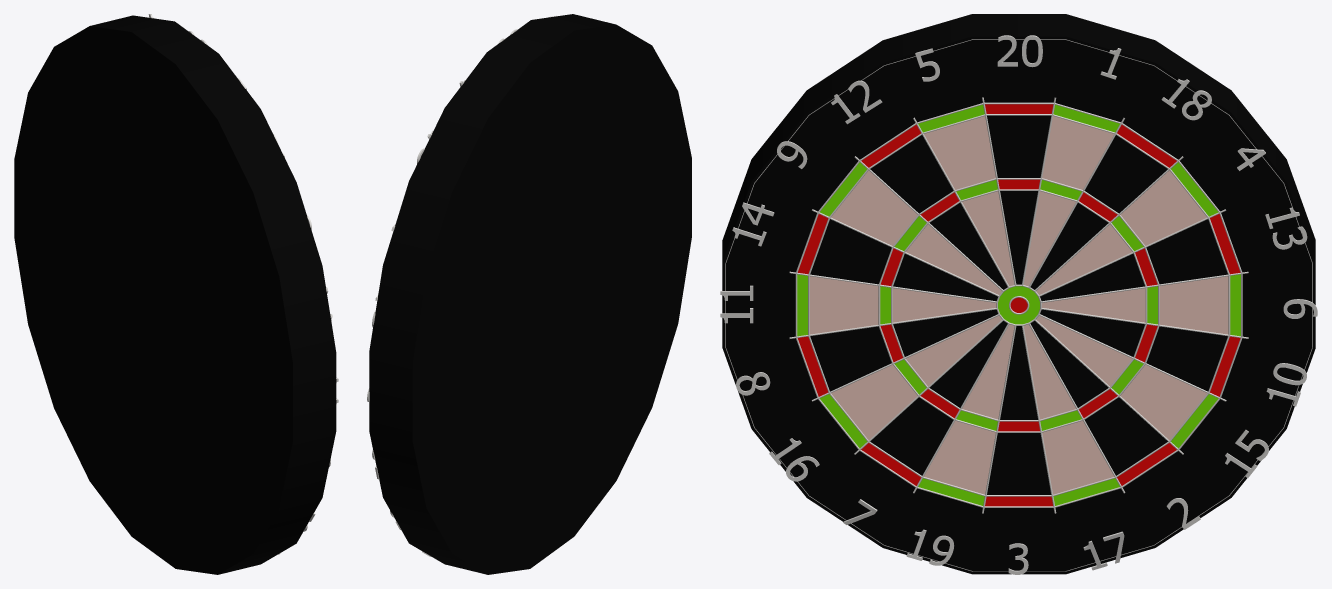
File: dartboard.dae
3 renders of one model, left to right at view 1: azimuth 30°, elevation 25°; view 2: azimuth 150°, elevation 25°; view 3: azimuth 270°, elevation 25°, orthographic. The views are drawn at different scales.
Visible parts, largest first — view 1: dartboard_main; view 2: dartboard_main; view 3: dartboard_main, dbWireMesh.
Part boxes in pixels (x1=…): dartboard_main: x1=14, y1=15, x2=336, y2=574; dartboard_main: x1=369, y1=14, x2=691, y2=574; dartboard_main: x1=722, y1=14, x2=1315, y2=574; dbWireMesh: x1=720, y1=35, x2=1317, y2=574.
Size of the model in its own units: 0.4506 by 4.48 by 4.46.
